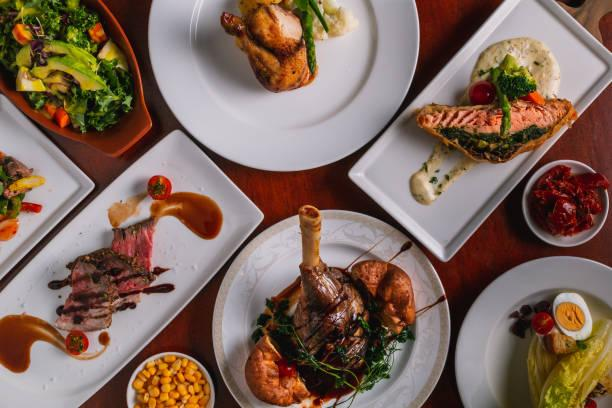Braised Crucian Carp: (212, 209, 446, 408), (150, 0, 414, 174), (453, 254, 610, 408), (2, 0, 154, 157)
